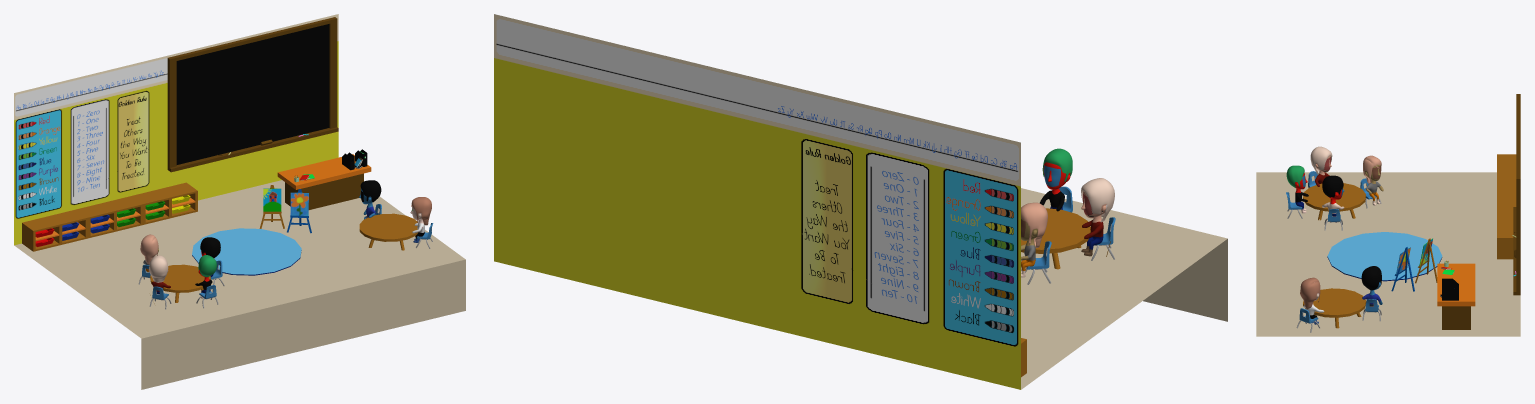
The model's file is Class Room -  Kindergarten - Updated.fbx.
3 renders of one model, left to right at view 1: azimuth 30°, elevation 25°; view 2: azimuth 150°, elevation 25°; view 3: azimuth 270°, elevation 25°, orthographic. The views are drawn at different scales.
Visible parts, largest first — view 1: Classroom.007; view 2: Classroom.007; view 3: Classroom.007.
Boxes of the visible parts, x1,y1,x2,y2 form: Classroom.007: [14, 14, 465, 389]; Classroom.007: [494, 14, 1227, 389]; Classroom.007: [1256, 94, 1520, 336].
Bounding box in the file's own units: 762 × 457 × 518.
